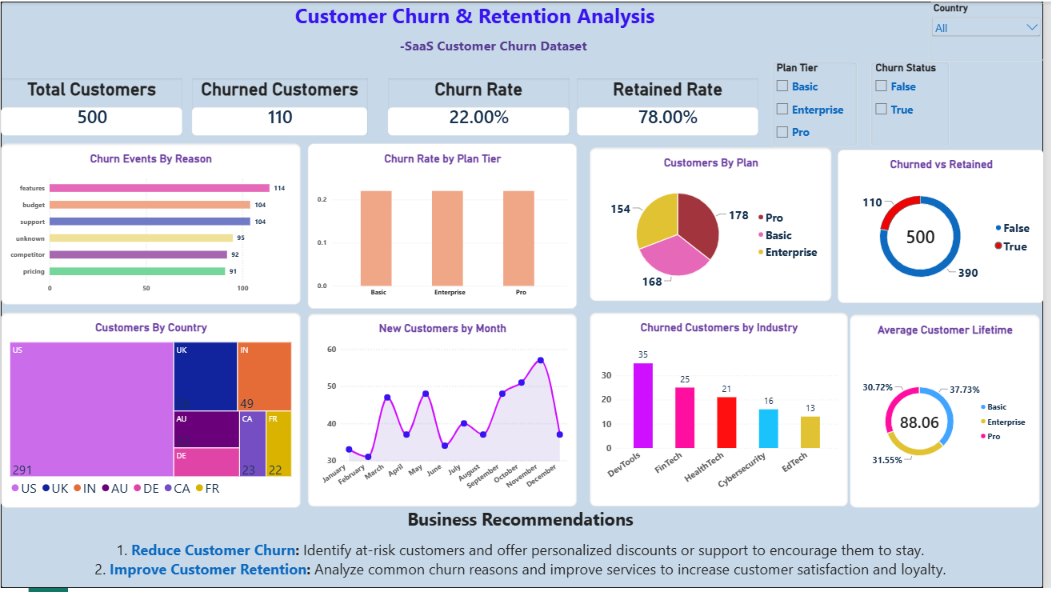

What the dashboard file says about the page in this screenshot:
{"tool":"powerbi","page":{"name":"Page 1","canvas":[1920,1080],"ordinal":0},"visuals":[{"type":"cardVisual","title":"Total Customers","fields":{"Data":["Count(ravenstack_accounts.account_id)"]},"box":[0,141.7,334.8,105],"z":0},{"type":"cardVisual","title":"Churned Customers","fields":{"Data":["Count(ravenstack_accounts.account_id)"]},"box":[351.5,141.7,323.9,104.9],"z":1},{"type":"cardVisual","title":"Churn Rate","fields":{"Data":["ravenstack_accounts.Churn Rate"]},"box":[713,141.2,334.8,105],"z":2},{"type":"cardVisual","title":"Retained Rate","fields":{"Data":["ravenstack_accounts.Retained Rate"]},"box":[1060.5,141.2,334.8,105],"z":3},{"type":"clusteredBarChart","title":"Churn Events By Reason","fields":{"Category":["ravenstack_churn_events.reason_code"],"Y":["CountNonNull(ravenstack_churn_events.churn_event_id)"]},"box":[0,261.4,551.6,296.4],"z":4},{"type":"clusteredColumnChart","title":"Churn Rate by Plan Tier","fields":{"Category":["ravenstack_subscriptions.plan_tier"],"Y":["ravenstack_accounts.Churn Rate by Plan"]},"box":[565,261.4,495.1,303.7],"z":5},{"type":"lineChart","title":"New Customers by Month","fields":{"Category":["ravenstack_accounts.signup_date.Variation.Date Hierarchy.Month"],"Y":["Count(ravenstack_accounts.account_id)"]},"box":[565,574.2,495.1,355.2],"z":6},{"type":"treemap","title":"Customers By Country","fields":{"Group":["ravenstack_accounts.country"],"Values":["Count(ravenstack_accounts.account_id)"]},"box":[0,572.4,552.2,358.9],"z":7},{"type":"donutChart","title":"Churned vs Retained","fields":{"Category":["ravenstack_accounts.churn_flag"],"Y":["Count(ravenstack_accounts.account_id)"]},"box":[1540.5,272.4,380,282.3],"z":8},{"type":"pieChart","title":"Customers By Plan","fields":{"Category":["ravenstack_accounts.plan_tier"],"Y":["Count(ravenstack_accounts.account_id)"]},"box":[1084.1,268.7,445.2,282.3],"z":9},{"type":"columnChart","title":"Churned Customers by Industry","fields":{"Category":["ravenstack_accounts.industry"],"Y":["Count(ravenstack_accounts.account_id)"]},"box":[1084.1,572.4,474.8,357.1],"z":10},{"type":"donutChart","title":"Average Customer Lifetime ","fields":{"Category":["ravenstack_subscriptions.plan_tier"],"Y":["Avg(ravenstack_subscriptions.Customer Lietime (Days))"]},"box":[1562.6,576.1,349.7,355.2],"z":11},{"type":"textbox","box":[0,872,565,208],"z":12},{"type":"textbox","box":[0,929.5,1912.3,150.9],"z":14},{"type":"textbox","box":[117.6,0,1509.3,110.4],"z":15},{"type":"slicer","fields":{"Values":["ravenstack_accounts.plan_tier"]},"box":[1418.8,110.4,157.4,157.4],"z":16},{"type":"slicer","fields":{"Values":["ravenstack_accounts.country"]},"box":[1708.3,0,211.7,110.4],"z":17},{"type":"slicer","fields":{"Values":["ravenstack_accounts.churn_flag"]},"box":[1601.5,110.4,144.8,157.4],"z":18}]}

Visuals, with their boxes in screenshot pixels (x1, y1, x2, y2), scaled from the page's 1920x1080 canvas onto the 1051x592 screenshot:
"Total Customers" cardVisual: l=0, t=78, r=183, b=135
"Churned Customers" cardVisual: l=192, t=78, r=370, b=135
"Churn Rate" cardVisual: l=390, t=77, r=574, b=135
"Retained Rate" cardVisual: l=581, t=77, r=764, b=135
"Churn Events By Reason" clusteredBarChart: l=0, t=143, r=302, b=306
"Churn Rate by Plan Tier" clusteredColumnChart: l=309, t=143, r=580, b=310
"New Customers by Month" lineChart: l=309, t=315, r=580, b=509
"Customers By Country" treemap: l=0, t=314, r=302, b=510
"Churned vs Retained" donutChart: l=843, t=149, r=1050, b=304
"Customers By Plan" pieChart: l=593, t=147, r=837, b=302
"Churned Customers by Industry" columnChart: l=593, t=314, r=853, b=510
"Average Customer Lifetime " donutChart: l=855, t=316, r=1047, b=510
textbox: l=0, t=478, r=309, b=591
textbox: l=0, t=510, r=1047, b=591
textbox: l=64, t=0, r=891, b=61
slicer - ravenstack_accounts.plan_tier: l=777, t=61, r=863, b=147
slicer - ravenstack_accounts.country: l=935, t=0, r=1050, b=61
slicer - ravenstack_accounts.churn_flag: l=877, t=61, r=956, b=147
